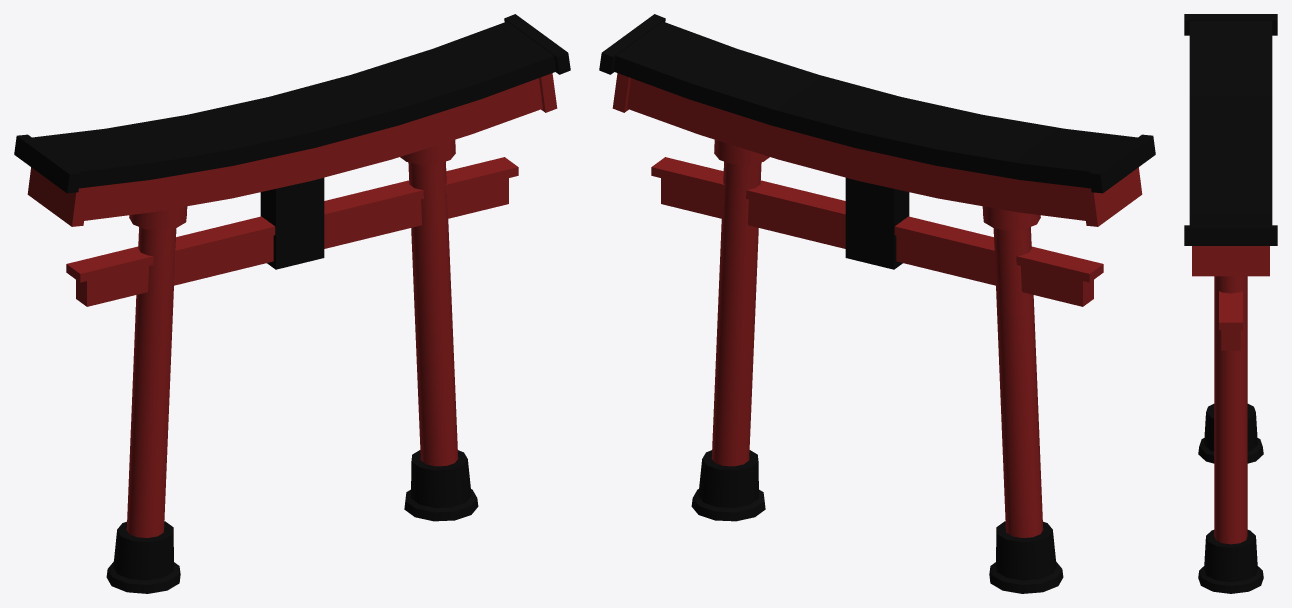
File: SM_gate_japan.fbx
3 renders of one model, left to right at view 1: azimuth 30°, elevation 25°; view 2: azimuth 150°, elevation 25°; view 3: azimuth 270°, elevation 25°, orthographic. The views are drawn at different scales.
Parts seen in each view (by area): view 1: Object00854545; view 2: Object00854545; view 3: Object00854545.
Boxes of the visible parts, box(x1,y1,x2,y2) form: Object00854545: box(14, 14, 570, 593); Object00854545: box(599, 14, 1155, 593); Object00854545: box(1184, 14, 1277, 593).
Bounding box in the file's own units: 228 × 193 × 41.4.
